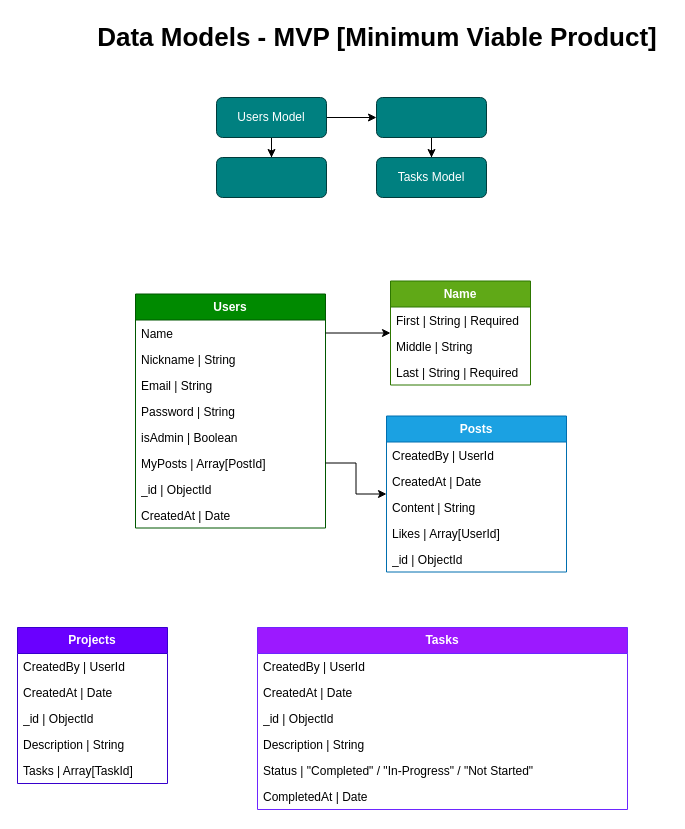
This 685x829 diagram has some shape labels left out. The shapes that lost their labels are listed below. From the top down, each one's centre as x and y in pixels, then its label:
At (x=431, y=117): "Projects Model".
At (x=271, y=177): "Posts Model".
